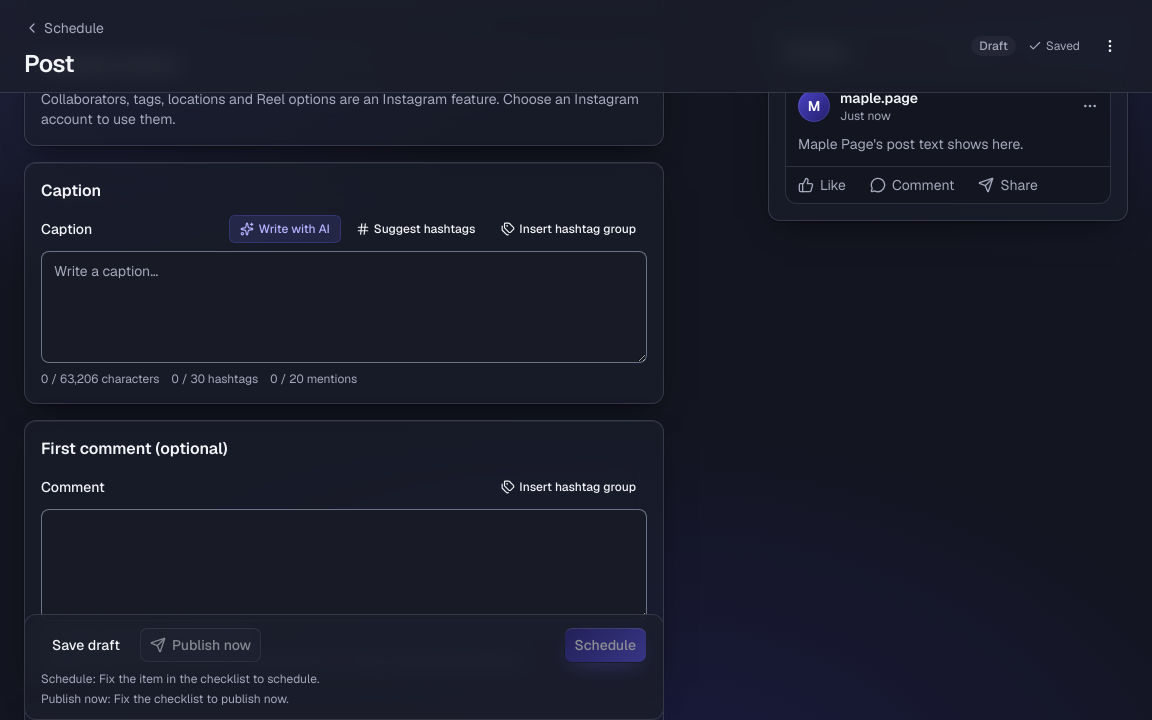
PostComposer Facebook Pages (GR-30) › offers Pages beside Instagram accounts; text alone is a post for a Page, and the preview is Facebook's
The width and height of the screenshot is (1152, 720).
(page scrolled)
Type "Open late tonight" into the text box labelled "Caption".
click(344, 307); type("Open late tonight")  # box [41,251,647,363]
(page scrolled)
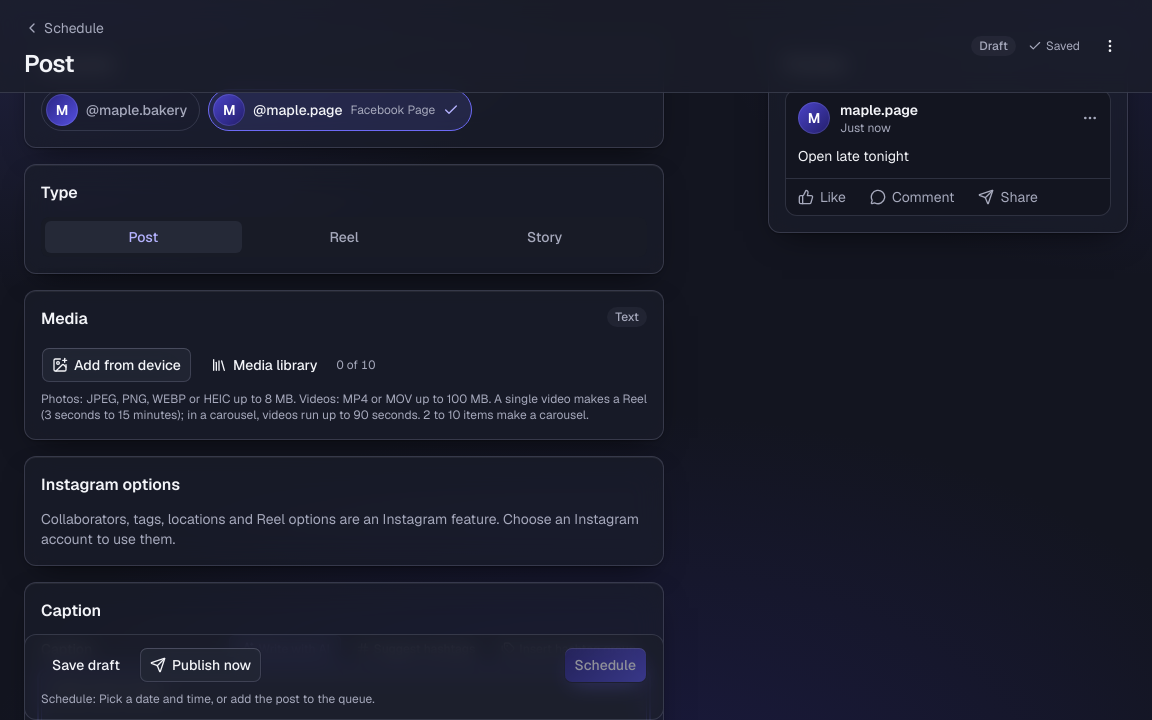
Expected: the text with test id "post-format" reads "Text", [615,309,639,325]
Now the element named "Facebook preview" shows "Open late tonight", box [798,147,909,165]
